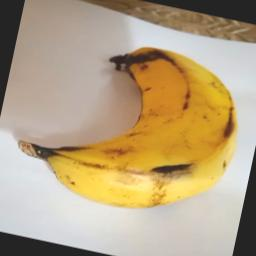Banana Unripe: (4, 18, 256, 229)
